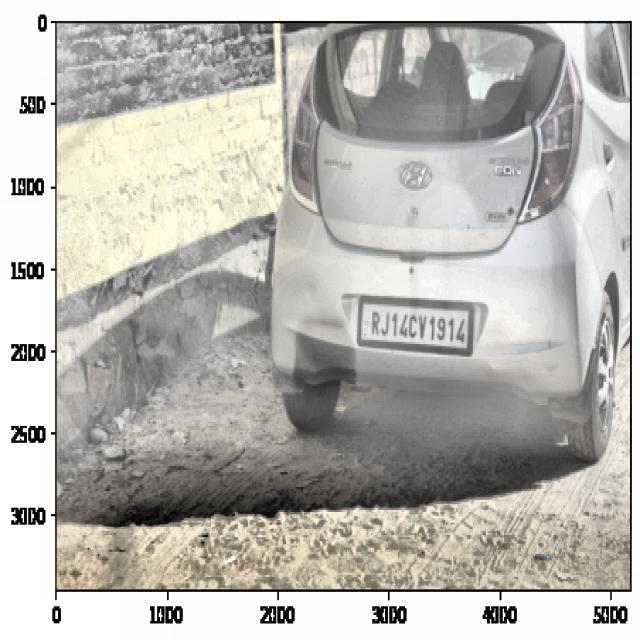license_plate: (369, 302, 471, 356)
